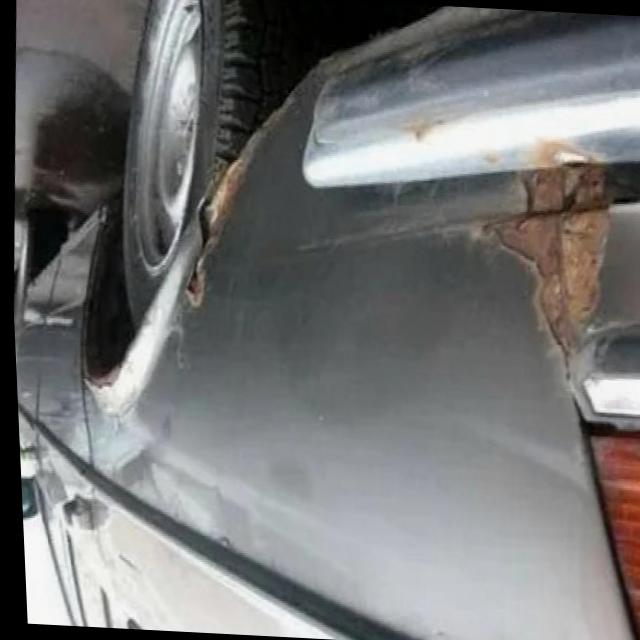Rust: (485, 164, 617, 363), (185, 100, 287, 305), (77, 352, 124, 389)
